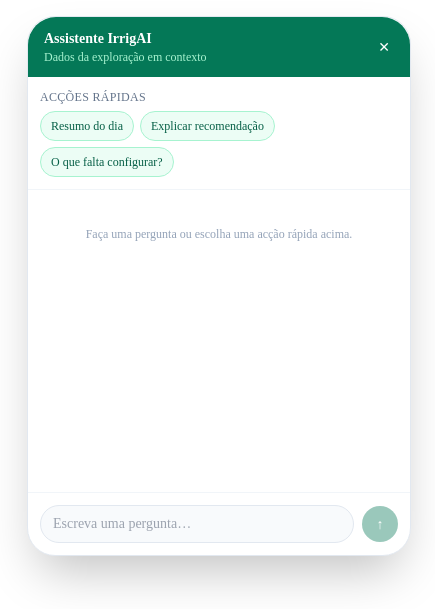
Test: ChatPanel › loading a conversation while an action is confirming (review 2026-09-23, B4) › allows switching conversations again once the turn has finished
Type "olá" into the field with placeholder "Escreva uma pergunta…" at (197, 524), box [40, 505, 354, 543]
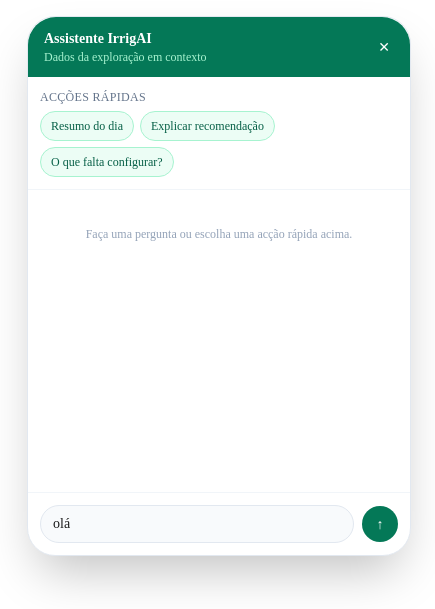
Click the button named "Enviar" at (380, 524), box [362, 506, 398, 542]
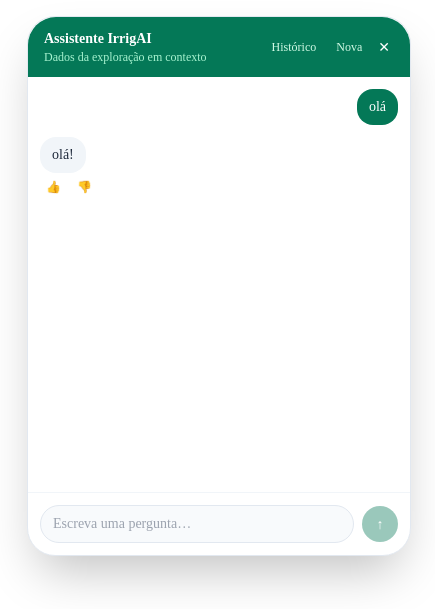
Now the text "olá!" is shown, box [40, 137, 86, 173]
Click the button with aria-label "Conversas anteriores" at (294, 47), box [264, 35, 324, 59]
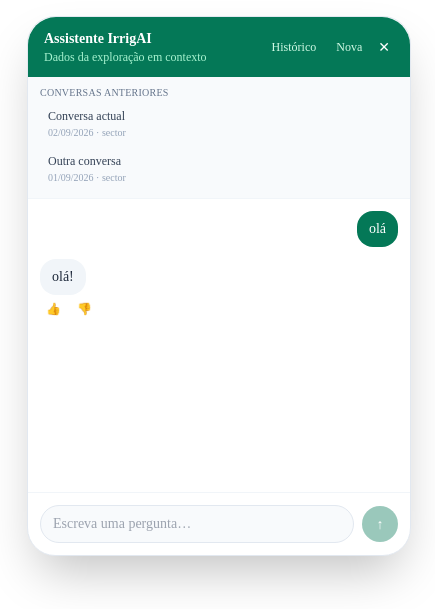
Click the text "Outra conversa" at (84, 161), box [48, 154, 121, 168]
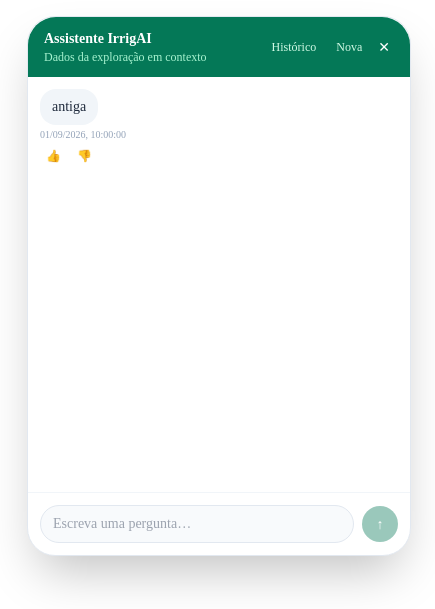
Now the text "antiga" is shown, box [40, 89, 98, 125]
